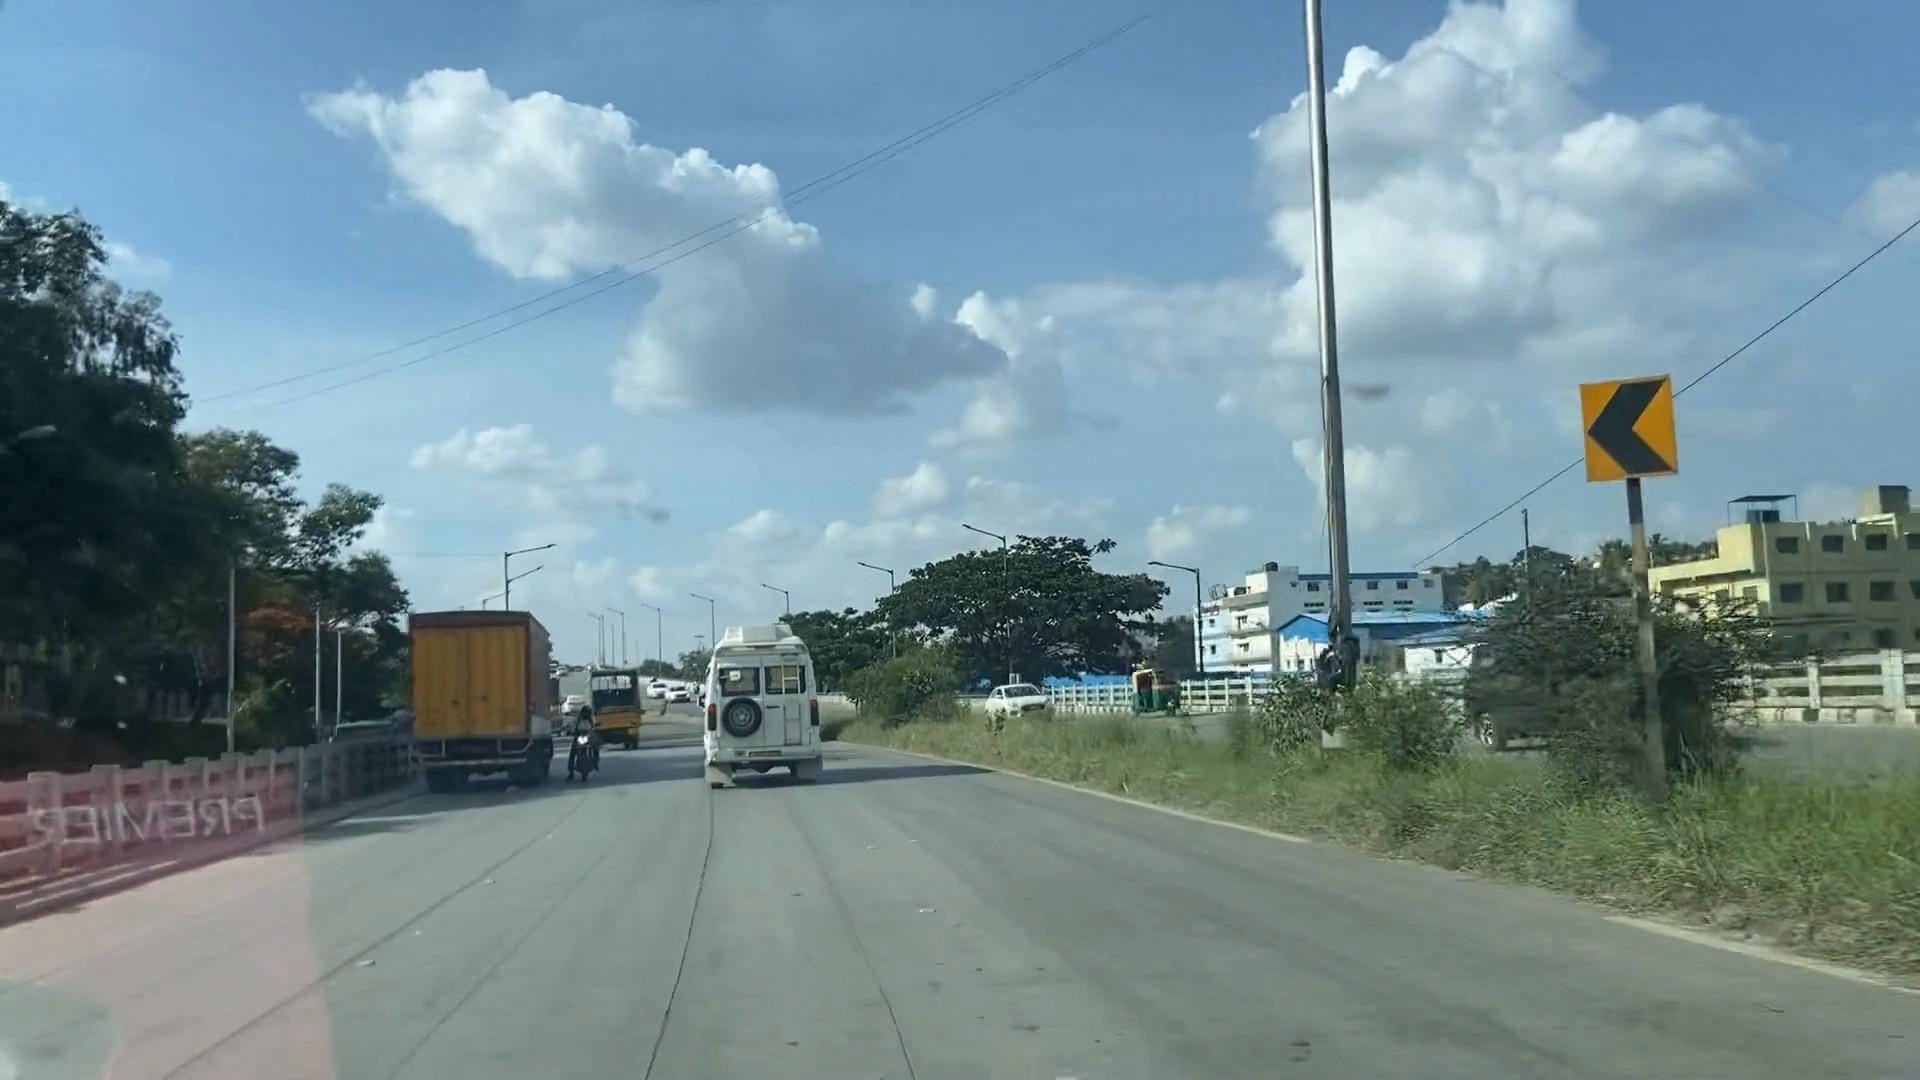HMV: (412, 598, 553, 802), (688, 626, 814, 792)
LMV: (566, 700, 603, 771)
